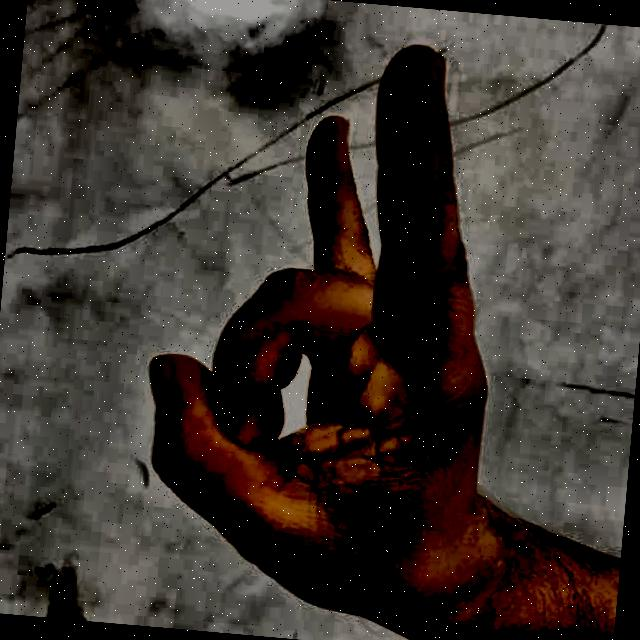Cha: (82, 12, 564, 640)
